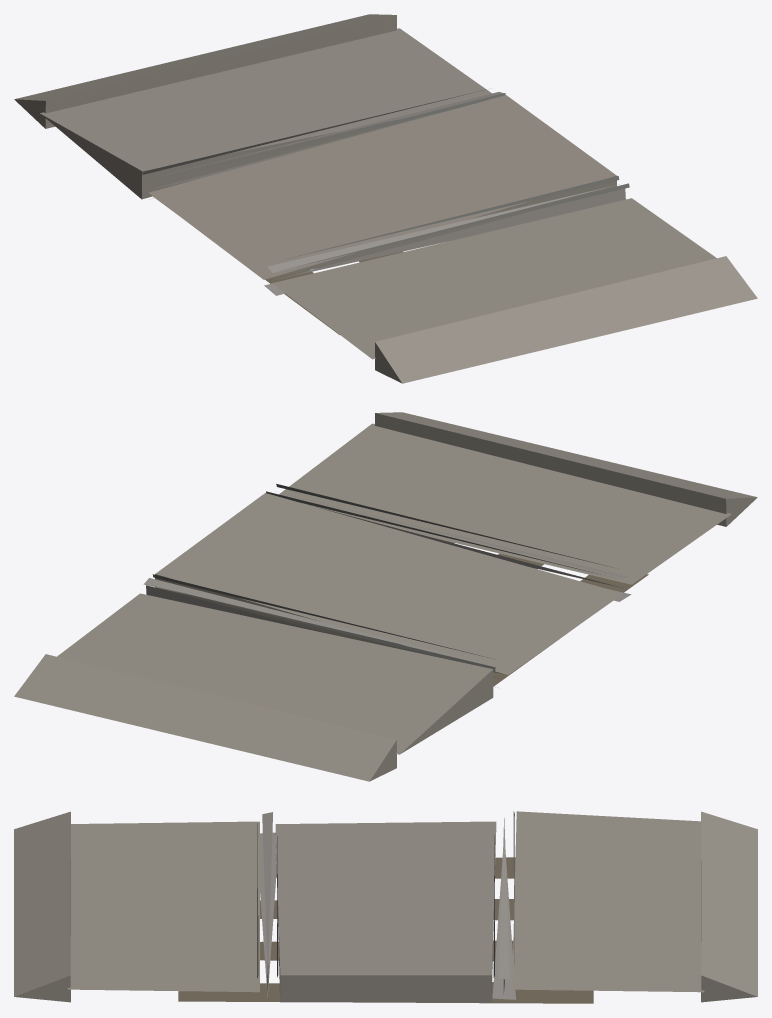
The model's file is rail-crossing-lod1.glb.
3 renders of one model, top to bottom at view 1: azimuth 30°, elevation 25°; view 2: azimuth 150°, elevation 25°; view 3: azimuth 270°, elevation 25°, orthographic. The views are drawn at different scales.
Visible parts, largest first — view 1: rail-crossing.001; view 2: rail-crossing.001; view 3: rail-crossing.001.
Boxes of the visible parts, x1=… form: rail-crossing.001: x1=14, y1=14, x2=757, y2=383; rail-crossing.001: x1=14, y1=412, x2=757, y2=781; rail-crossing.001: x1=14, y1=811, x2=757, y2=1003.
Bounding box in the file's own units: 2.53 × 0.2726 × 4.73.
